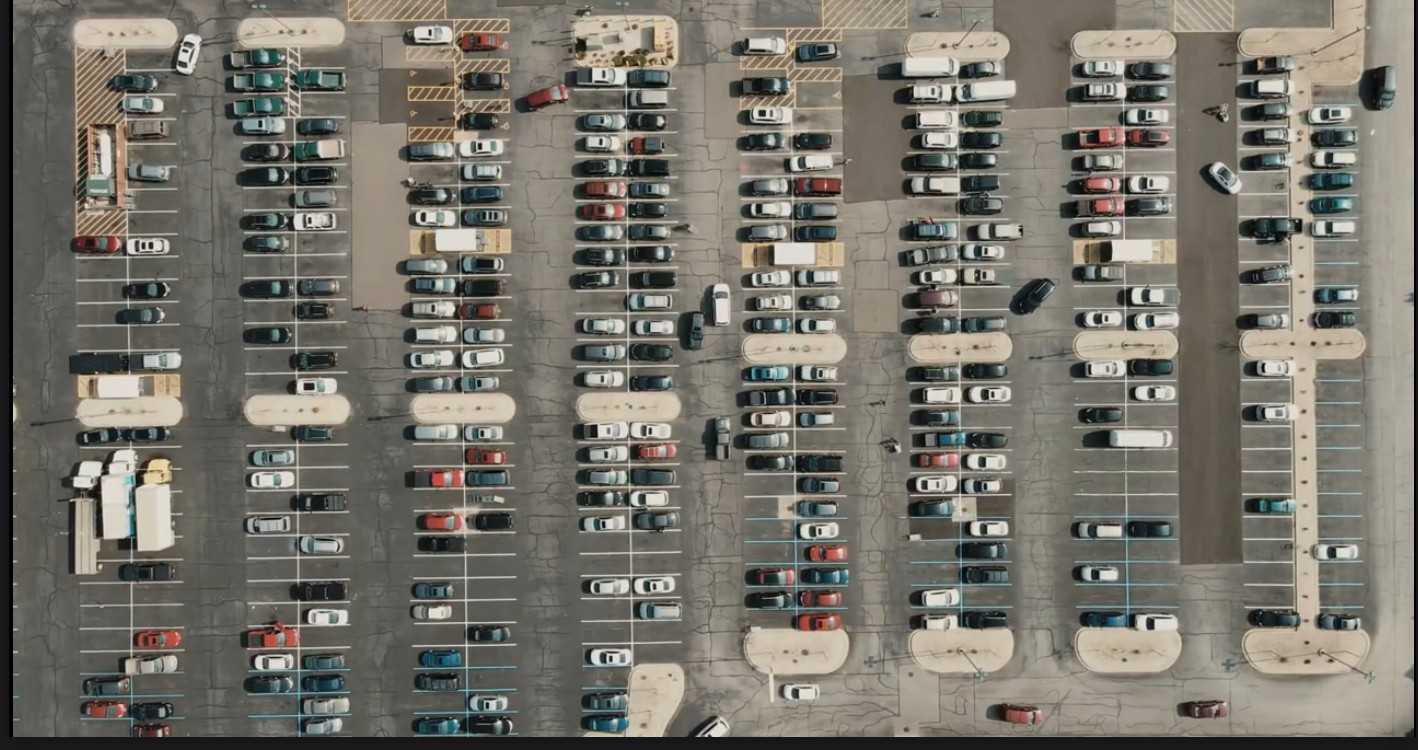empty: (1240, 379, 1291, 401), (78, 327, 128, 349), (297, 324, 347, 346), (75, 259, 126, 280), (631, 554, 682, 575), (1128, 585, 1179, 606), (128, 258, 178, 279), (248, 423, 295, 445), (127, 212, 176, 233), (409, 163, 458, 184), (245, 375, 296, 395), (467, 602, 518, 622), (244, 350, 292, 371), (248, 604, 296, 625), (1244, 586, 1294, 606), (1318, 585, 1368, 605), (1320, 563, 1370, 583), (1242, 563, 1292, 583), (1243, 540, 1293, 560), (1243, 517, 1293, 537), (1318, 518, 1368, 538), (796, 82, 839, 105), (131, 675, 183, 694), (633, 623, 685, 642), (417, 556, 464, 577), (793, 43, 840, 64), (126, 49, 175, 69), (129, 327, 178, 347), (246, 536, 295, 556), (413, 624, 464, 643), (1238, 195, 1289, 214), (413, 444, 461, 464), (241, 257, 294, 275), (126, 146, 176, 165), (298, 514, 348, 533), (576, 292, 626, 311), (1076, 585, 1126, 604), (1128, 563, 1178, 582), (1129, 540, 1179, 559), (1077, 539, 1127, 558), (962, 497, 1012, 516), (910, 519, 960, 538), (909, 541, 959, 560), (909, 563, 959, 582), (963, 586, 1013, 605), (1076, 496, 1126, 515), (1128, 496, 1178, 515), (1128, 474, 1178, 493), (1075, 474, 1125, 493), (1075, 451, 1125, 470), (1126, 451, 1176, 470), (1074, 383, 1124, 402), (1128, 406, 1178, 425), (962, 406, 1012, 425), (1073, 286, 1123, 305), (1126, 264, 1176, 283), (1126, 220, 1176, 239), (1239, 285, 1289, 304), (1239, 263, 1289, 282), (1239, 240, 1289, 259), (408, 64, 453, 85), (81, 654, 128, 674), (246, 583, 298, 601), (741, 155, 793, 173), (126, 191, 175, 210), (133, 585, 182, 604), (244, 301, 293, 320), (296, 234, 345, 253), (248, 559, 297, 578), (581, 533, 630, 552), (1124, 151, 1173, 170), (575, 88, 621, 108), (239, 190, 290, 208), (78, 305, 126, 324), (467, 556, 515, 575), (466, 578, 514, 597), (632, 532, 680, 551), (747, 544, 795, 563), (581, 600, 629, 619), (77, 283, 127, 301), (747, 520, 792, 540), (796, 110, 843, 129), (1242, 449, 1289, 468), (1242, 426, 1289, 445), (468, 647, 517, 665), (468, 671, 517, 689), (580, 624, 629, 642), (1317, 495, 1361, 515), (1316, 471, 1360, 491), (1317, 448, 1361, 468), (1317, 426, 1361, 446), (1315, 381, 1361, 400), (133, 607, 181, 625), (300, 627, 348, 645), (249, 650, 294, 669), (1317, 360, 1362, 379), (298, 449, 348, 466), (746, 475, 793, 493), (962, 289, 1009, 307), (1242, 472, 1289, 490), (1312, 264, 1359, 282), (80, 607, 129, 624), (299, 471, 348, 488), (80, 564, 126, 582), (748, 609, 794, 627), (1316, 403, 1357, 423), (81, 585, 129, 602), (248, 493, 296, 510), (248, 697, 299, 713), (581, 556, 629, 573), (83, 630, 128, 648), (297, 257, 344, 274), (467, 534, 513, 551), (409, 106, 452, 124), (301, 559, 346, 576), (461, 209, 506, 226), (415, 694, 462, 710), (749, 499, 793, 516), (799, 431, 843, 448), (301, 96, 344, 113), (1314, 85, 1357, 102), (1315, 243, 1355, 260), (585, 669, 627, 685), (1073, 109, 1121, 123), (82, 720, 129, 734), (414, 492, 461, 506), (636, 647, 681, 661), (303, 49, 342, 64)
occupied: (1237, 148, 1292, 170), (1234, 172, 1289, 194), (244, 325, 295, 348), (628, 341, 679, 364), (1239, 306, 1290, 329), (235, 143, 292, 163), (799, 568, 856, 588), (462, 345, 509, 369), (127, 94, 176, 117), (578, 367, 627, 390), (236, 166, 292, 186), (411, 601, 464, 622), (233, 96, 285, 117), (299, 603, 351, 624), (573, 66, 625, 87), (741, 220, 793, 241), (1245, 607, 1297, 628), (234, 120, 291, 139), (632, 314, 679, 337), (126, 166, 175, 188), (414, 670, 463, 692), (577, 315, 626, 337), (580, 642, 629, 664), (233, 48, 286, 68), (126, 121, 176, 142), (132, 628, 182, 649), (294, 141, 344, 162), (580, 576, 630, 597), (78, 538, 130, 558), (294, 212, 346, 232), (299, 68, 346, 90), (132, 561, 181, 582), (1237, 218, 1291, 237), (412, 647, 463, 667), (628, 291, 679, 311), (801, 472, 847, 494), (410, 322, 458, 343), (469, 715, 517, 736), (742, 29, 784, 53), (127, 280, 177, 300), (573, 246, 623, 266), (744, 566, 794, 586), (1071, 218, 1121, 238), (1072, 195, 1122, 215), (1125, 195, 1175, 215), (1125, 173, 1175, 193), (746, 289, 791, 311), (244, 470, 296, 489), (1239, 54, 1291, 73), (246, 512, 293, 533), (463, 372, 510, 393), (580, 343, 627, 364), (76, 236, 125, 256), (413, 578, 462, 598), (239, 213, 290, 232), (633, 600, 684, 619), (1240, 496, 1291, 515), (130, 304, 176, 325), (631, 443, 677, 464), (128, 235, 176, 255), (133, 538, 181, 558), (79, 352, 127, 372), (410, 347, 458, 367), (745, 266, 793, 286), (578, 443, 626, 463), (1130, 608, 1178, 628), (573, 180, 626, 198), (229, 73, 285, 90), (130, 353, 180, 372), (295, 190, 345, 209), (413, 715, 463, 734), (1077, 562, 1127, 581), (962, 563, 1012, 582), (962, 541, 1012, 560), (962, 518, 1012, 537), (962, 474, 1012, 493), (909, 474, 959, 493), (908, 497, 958, 516), (910, 586, 960, 605), (908, 451, 958, 470), (960, 450, 1010, 469), (1075, 518, 1125, 537), (1128, 518, 1178, 537), (961, 429, 1011, 448), (909, 428, 959, 447), (909, 406, 959, 425), (909, 384, 959, 403), (909, 362, 959, 381), (1076, 406, 1126, 425), (962, 383, 1012, 402), (960, 381, 1010, 400), (1126, 428, 1176, 447), (1127, 382, 1177, 401), (1127, 360, 1177, 379), (1075, 360, 1125, 379), (962, 362, 1012, 381), (907, 311, 957, 330), (961, 311, 1011, 330), (1074, 308, 1124, 327), (1128, 308, 1178, 327), (1128, 285, 1178, 304), (1073, 263, 1123, 282), (741, 73, 786, 94), (581, 421, 626, 442), (582, 711, 627, 732), (1321, 607, 1366, 628), (134, 426, 181, 446), (300, 536, 347, 556), (406, 23, 453, 43), (127, 73, 176, 92), (133, 698, 182, 717), (82, 448, 131, 467), (408, 187, 457, 206), (466, 512, 515, 531), (628, 177, 672, 198), (636, 370, 680, 391), (581, 688, 627, 708), (1313, 217, 1359, 237), (241, 280, 292, 298), (573, 113, 624, 131), (1237, 80, 1291, 97), (132, 653, 180, 672), (296, 278, 344, 297), (296, 119, 344, 138), (300, 491, 348, 510), (246, 673, 294, 692), (741, 177, 789, 196), (579, 467, 627, 486), (581, 510, 629, 529), (1074, 151, 1122, 170), (1073, 128, 1121, 147), (1124, 129, 1172, 148), (630, 133, 673, 154), (411, 299, 456, 319), (631, 467, 676, 487), (1317, 540, 1362, 560), (1312, 148, 1357, 168), (133, 449, 180, 468), (249, 717, 296, 736), (744, 385, 791, 404), (746, 453, 793, 472), (298, 650, 350, 667), (742, 408, 791, 426), (631, 488, 680, 506), (798, 453, 847, 471), (912, 609, 961, 627), (298, 350, 344, 369), (415, 469, 461, 488), (469, 691, 515, 710), (744, 431, 790, 450), (576, 488, 622, 507), (795, 385, 841, 404), (240, 237, 291, 254), (245, 448, 296, 465), (575, 224, 626, 241), (633, 511, 684, 528), (1071, 176, 1122, 193), (1238, 104, 1289, 121), (296, 374, 344, 392), (249, 628, 297, 646), (575, 135, 623, 153), (575, 269, 623, 287), (745, 314, 793, 332), (909, 289, 957, 307), (909, 266, 957, 284), (910, 243, 958, 261), (909, 221, 957, 239), (910, 199, 958, 217), (909, 176, 957, 194), (908, 153, 956, 171), (907, 130, 955, 148), (906, 108, 954, 126), (904, 86, 952, 104), (906, 64, 954, 82), (959, 63, 1007, 81), (960, 87, 1008, 105), (960, 109, 1008, 127), (962, 130, 1010, 148), (962, 153, 1010, 171), (963, 175, 1011, 193), (962, 199, 1010, 217), (962, 221, 1010, 239), (962, 244, 1010, 262), (963, 267, 1011, 285), (467, 444, 508, 465), (794, 199, 835, 220), (463, 300, 506, 320), (797, 314, 840, 334), (1311, 171, 1354, 191), (469, 624, 514, 643), (742, 109, 787, 128), (748, 588, 793, 607), (1313, 285, 1358, 304), (1241, 404, 1291, 421), (1239, 358, 1289, 375), (743, 200, 790, 218), (963, 609, 1010, 627), (464, 113, 506, 133), (633, 269, 677, 288), (799, 610, 843, 629), (796, 176, 840, 195), (133, 720, 182, 737), (408, 255, 454, 273), (464, 322, 505, 342), (464, 72, 507, 91), (794, 222, 837, 241), (414, 512, 462, 529), (741, 133, 789, 150), (1126, 107, 1174, 124), (1126, 84, 1174, 101), (1125, 61, 1173, 78), (1074, 82, 1122, 99), (1074, 60, 1122, 77), (136, 494, 181, 512), (83, 698, 128, 716), (409, 142, 454, 160), (415, 424, 460, 442), (631, 245, 676, 263), (135, 517, 182, 534), (298, 425, 345, 442), (412, 374, 456, 392), (628, 157, 672, 175), (796, 363, 840, 381), (796, 290, 840, 308), (83, 429, 132, 445), (1077, 607, 1126, 623), (1239, 128, 1288, 144), (630, 577, 676, 594), (796, 269, 842, 286), (795, 407, 836, 426), (1313, 309, 1356, 327), (410, 209, 455, 226), (414, 279, 459, 296), (631, 224, 676, 241), (794, 133, 839, 150), (297, 302, 339, 320), (628, 89, 670, 107), (135, 472, 182, 488), (574, 159, 624, 174), (628, 69, 672, 86), (746, 363, 790, 380), (1312, 129, 1356, 146), (461, 253, 502, 271), (1312, 106, 1353, 124), (304, 696, 350, 712), (459, 139, 505, 155), (416, 537, 462, 553), (801, 545, 847, 561), (467, 491, 516, 506), (576, 204, 625, 219), (82, 677, 125, 694), (462, 277, 505, 294), (799, 589, 842, 606), (632, 421, 670, 440), (303, 583, 348, 599), (303, 674, 348, 690), (467, 469, 512, 485), (797, 522, 842, 538), (796, 156, 838, 173), (297, 169, 344, 184), (302, 718, 346, 734), (1311, 196, 1355, 212), (464, 34, 503, 52), (797, 500, 846, 514), (464, 424, 506, 440), (461, 164, 504, 179), (631, 112, 671, 128), (463, 187, 505, 202)
